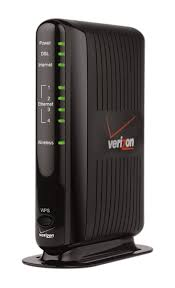Verizon Router: (19, 10, 161, 266)
